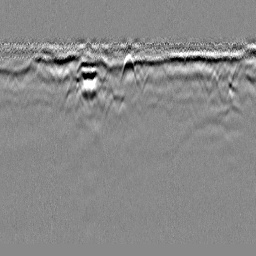cavity: (119, 52, 137, 86)
